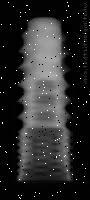Sterngold: (15, 16, 72, 182)
